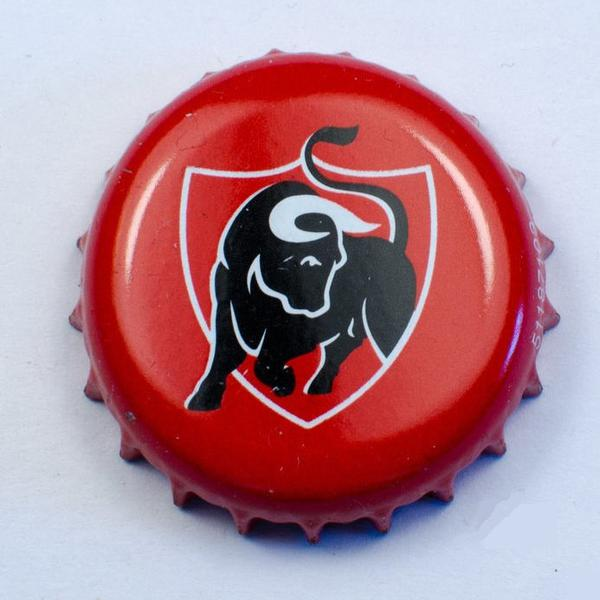jupiler: (63, 40, 569, 557)
